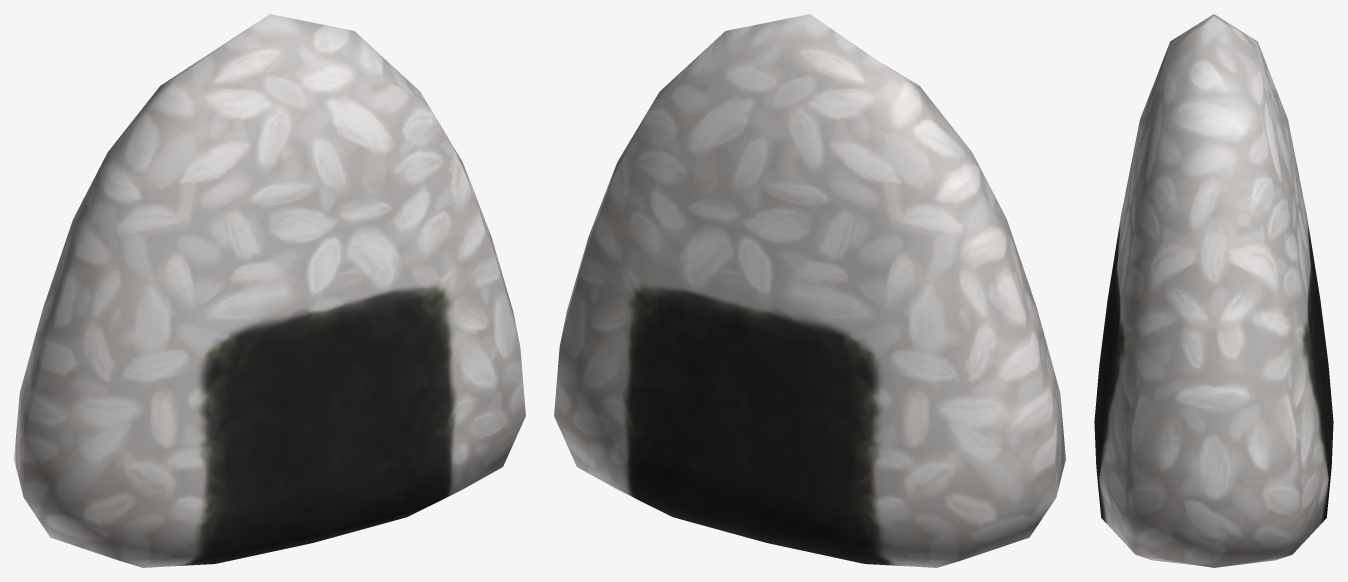
Rendered from ArrozConAlgas.fbx.
The picture shows the model from 3 angles, left to right: view 1: azimuth 30°, elevation 25°; view 2: azimuth 150°, elevation 25°; view 3: azimuth 270°, elevation 25°; orthographic projection. The views are drawn at different scales.
Visible parts, largest first — view 1: Cube; view 2: Cube; view 3: Cube.
Boxes of the visible parts, x1,y1,x2,y2 form: Cube: (14, 14, 525, 567); Cube: (554, 14, 1065, 567); Cube: (1094, 14, 1333, 567).
Bounding box in the file's own units: 16.82 × 16.52 × 7.41.
